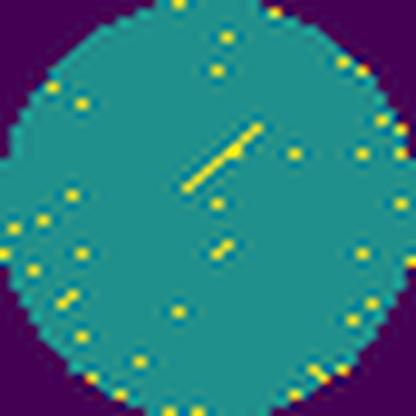Scratch: (175, 117, 271, 204)
